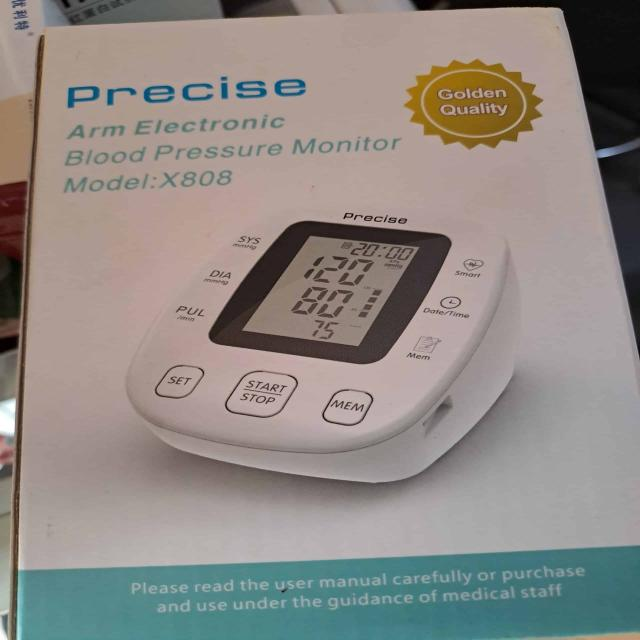dia: (284, 278, 361, 327)
pul: (299, 318, 347, 345)
ssd: (242, 189, 421, 387)
sys: (289, 247, 383, 292)
